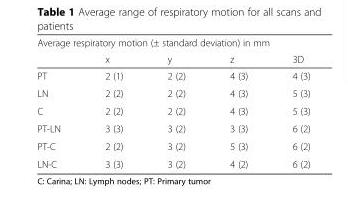table: (36, 36, 309, 169)
table column: (144, 36, 207, 169), (82, 36, 144, 169), (207, 36, 269, 169), (36, 36, 82, 169), (269, 36, 309, 169)
table column header: (36, 36, 309, 67)
table row: (36, 101, 309, 119), (36, 119, 309, 137), (36, 50, 309, 67), (36, 67, 309, 84), (36, 84, 309, 101), (36, 137, 309, 154), (36, 154, 309, 169), (36, 36, 309, 50)
table spanning cell: (36, 36, 309, 50)
